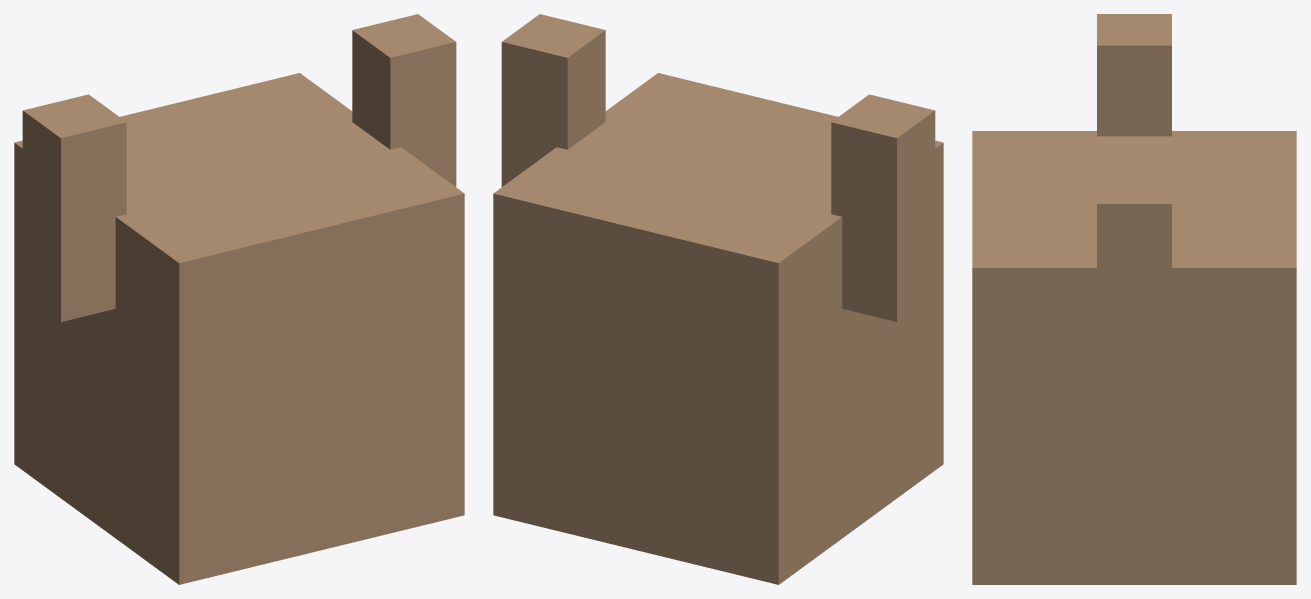
File: leather_helm.glb
The picture shows the model from 3 angles, left to right: view 1: azimuth 30°, elevation 25°; view 2: azimuth 150°, elevation 25°; view 3: azimuth 270°, elevation 25°; orthographic projection.
Parts seen in each view (by area): view 1: leather_helm; view 2: leather_helm; view 3: leather_helm.
Boxes of the visible parts, <box> form: leather_helm: <box>14,14,464,584</box>; leather_helm: <box>493,14,943,584</box>; leather_helm: <box>972,14,1296,584</box>.
Size of the model in its own units: 0.36 by 0.36 by 0.26.
